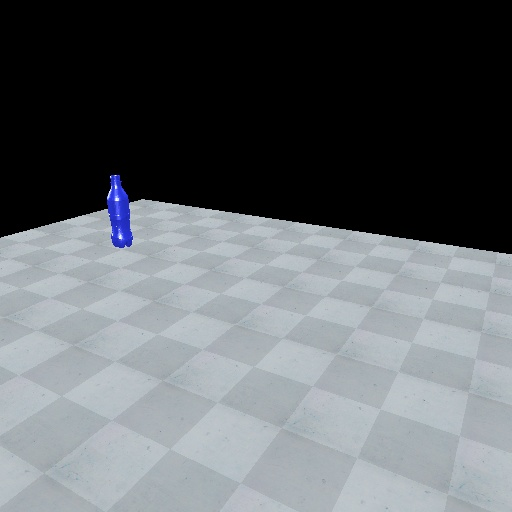bottle: (103, 172, 136, 249)
